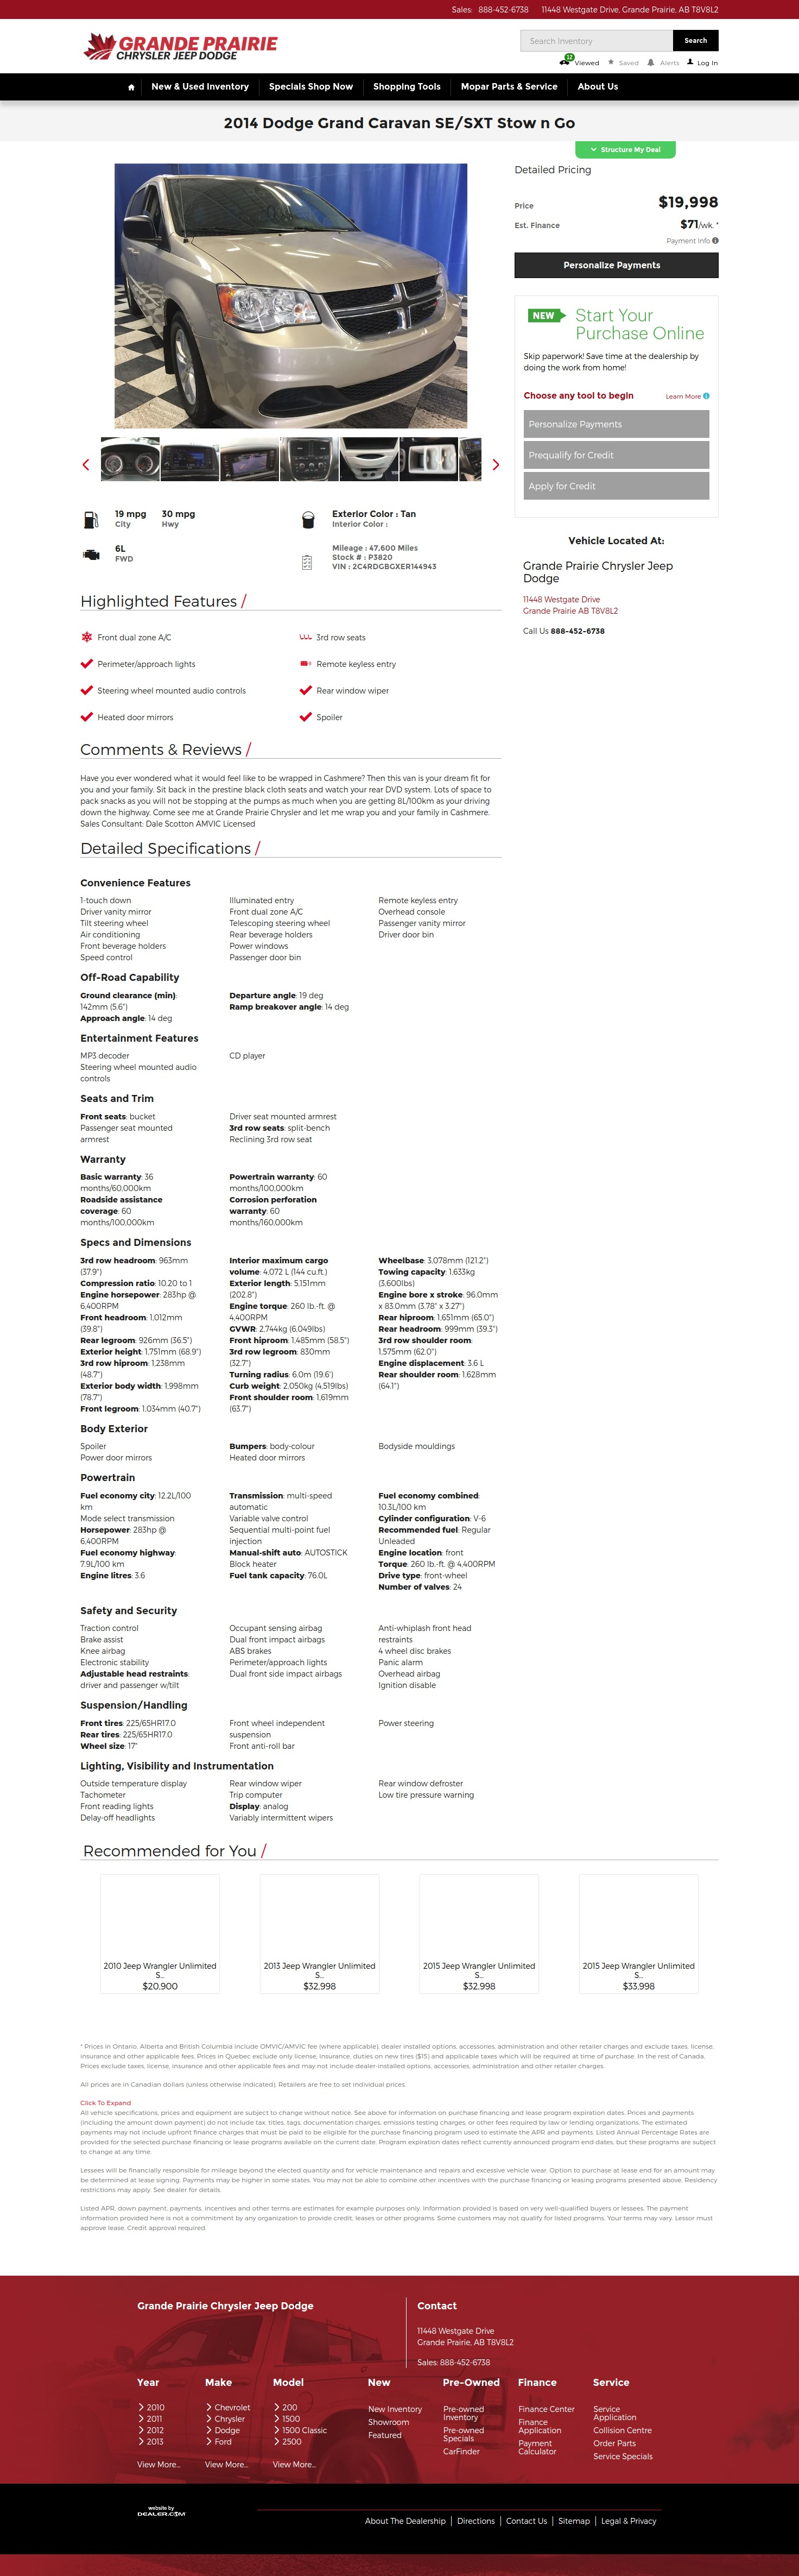car: (492, 458, 500, 472)
